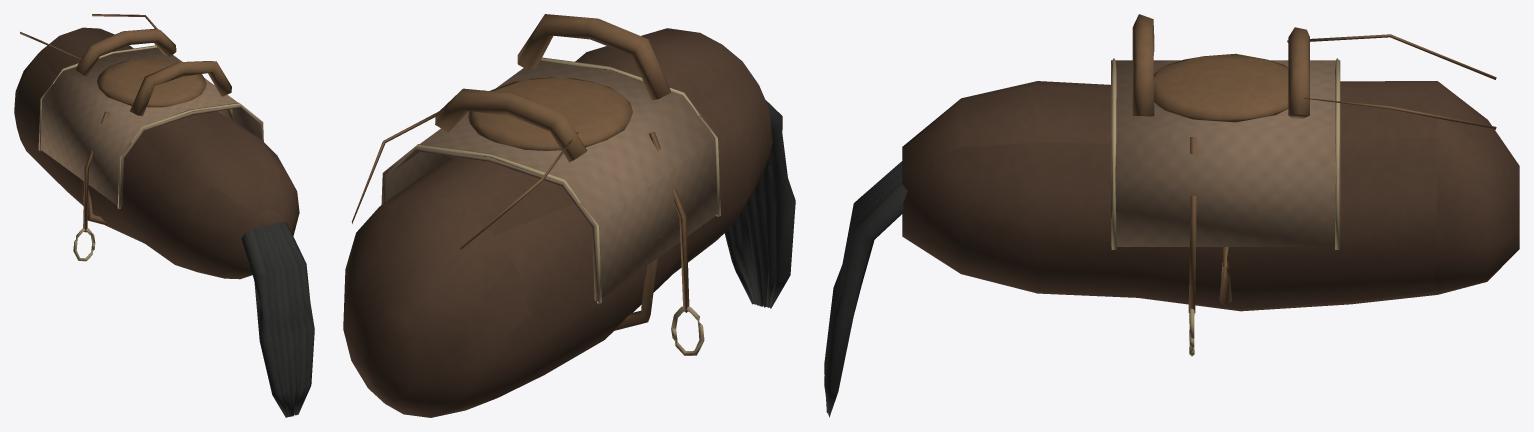
Rendered from body_lod1.glb.
The picture shows the model from 3 angles, left to right: view 1: azimuth 30°, elevation 25°; view 2: azimuth 150°, elevation 25°; view 3: azimuth 270°, elevation 25°; orthographic projection. The views are drawn at different scales.
Parts seen in each view (by area): view 1: agro_body_LOD1; view 2: agro_body_LOD1; view 3: agro_body_LOD1.
Boxes of the visible parts, left/top/right/bottom form: agro_body_LOD1: left=14, top=14, right=314, bottom=417; agro_body_LOD1: left=343, top=14, right=795, bottom=417; agro_body_LOD1: left=824, top=14, right=1519, bottom=417.
Bounding box in the file's own units: 0.9984 × 1.45 × 2.37.
6 materials, 4 textured.
